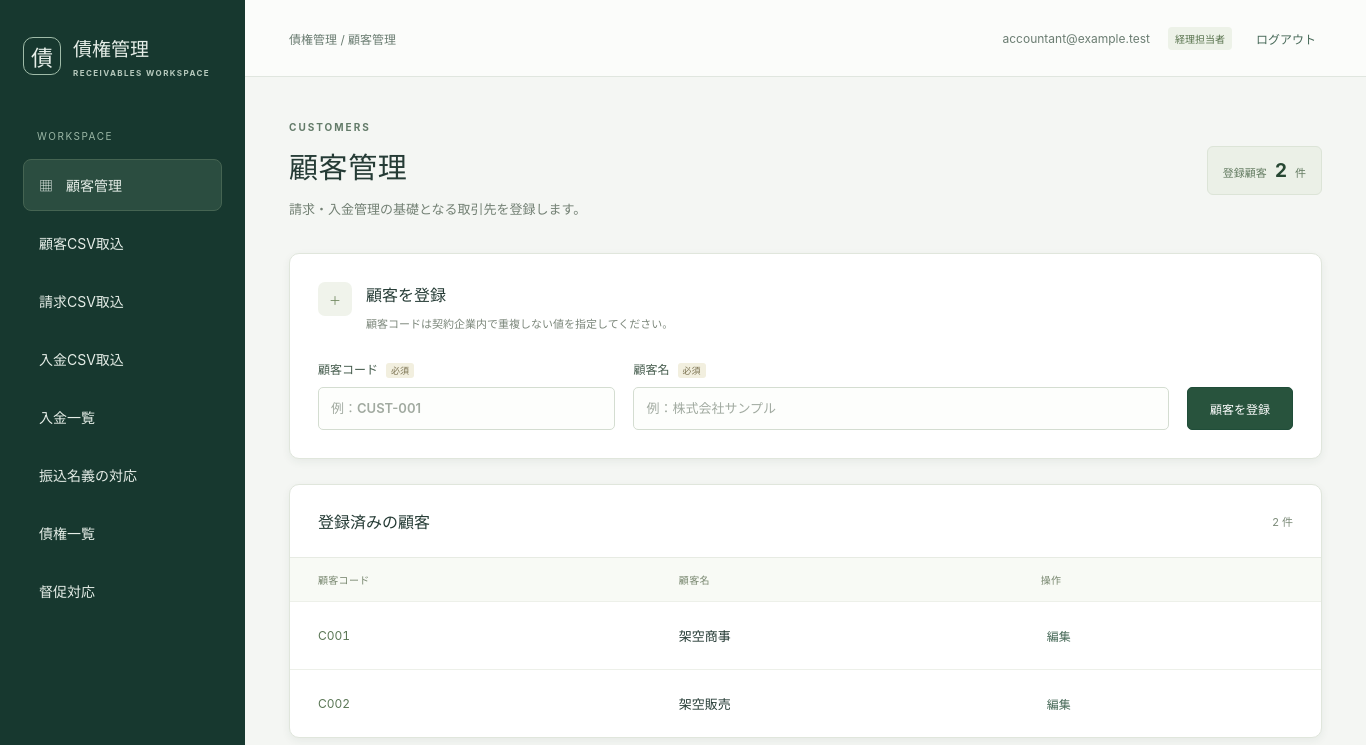
it: Manual payer aliases › sends payer text unchanged and shows the server response without case, width, kana or Unicode conversion
The image size is (1366, 745).
Click the button "振込名義の対応" at (122, 475), box [23, 449, 222, 501]
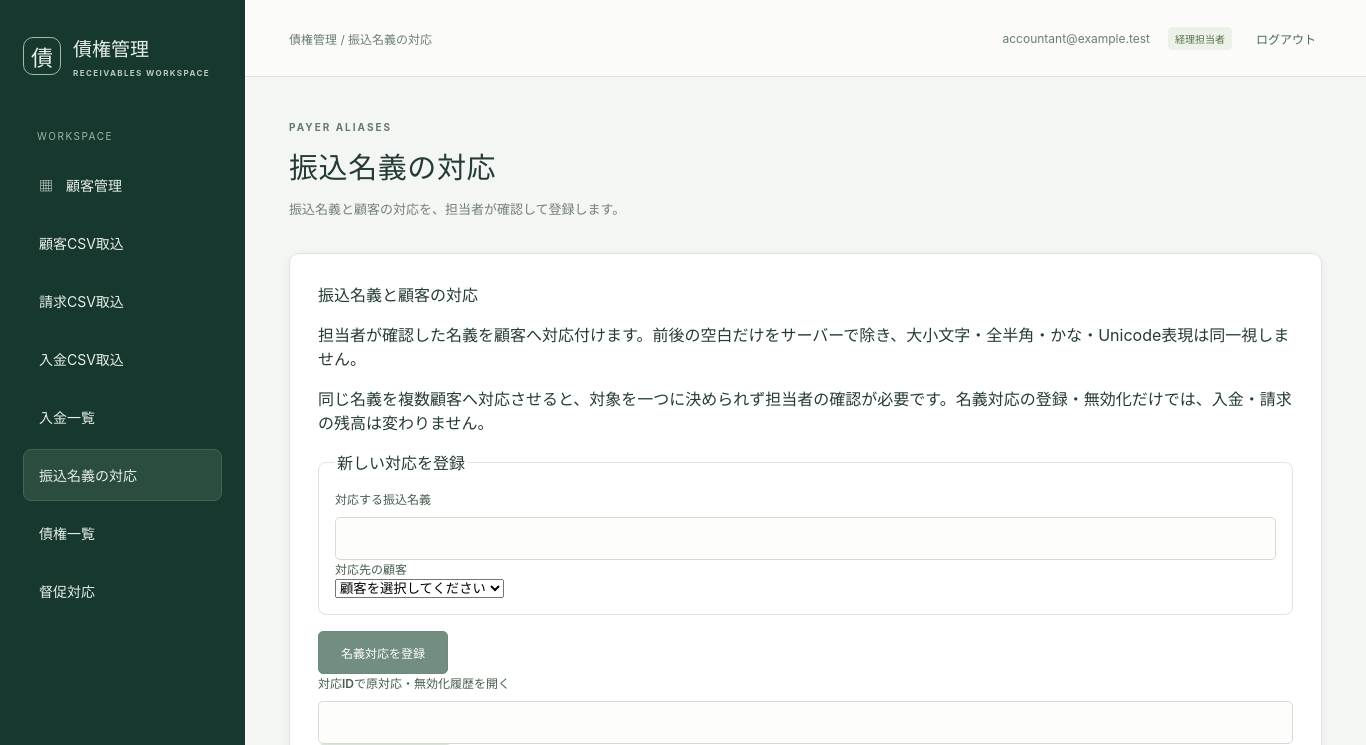
Type "  ｶｸｳ KAKUU kakuu é é  " into the field labelled "対応する振込名義" at (806, 539), box [335, 517, 1276, 560]
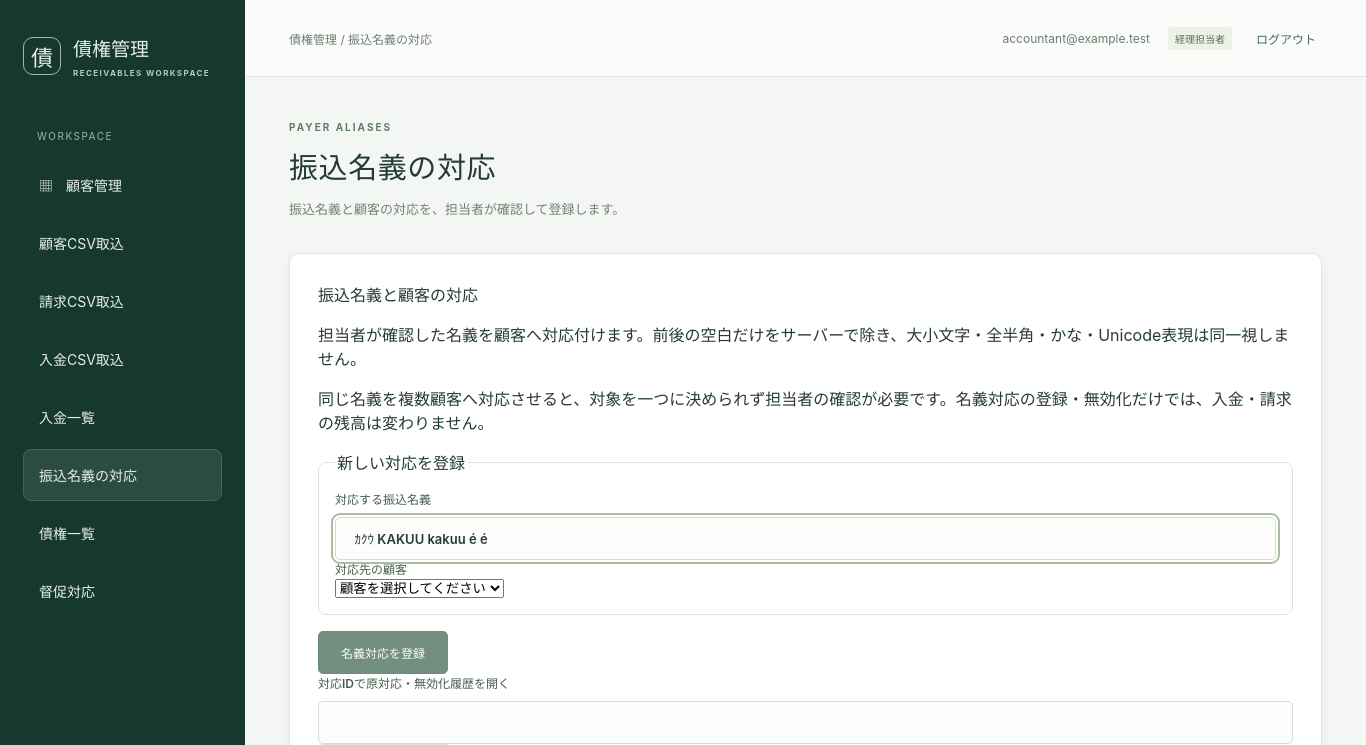
Select "C001 — 架空商事" in the dropdown labelled "対応先の顧客" at (420, 589), box [335, 579, 504, 598]
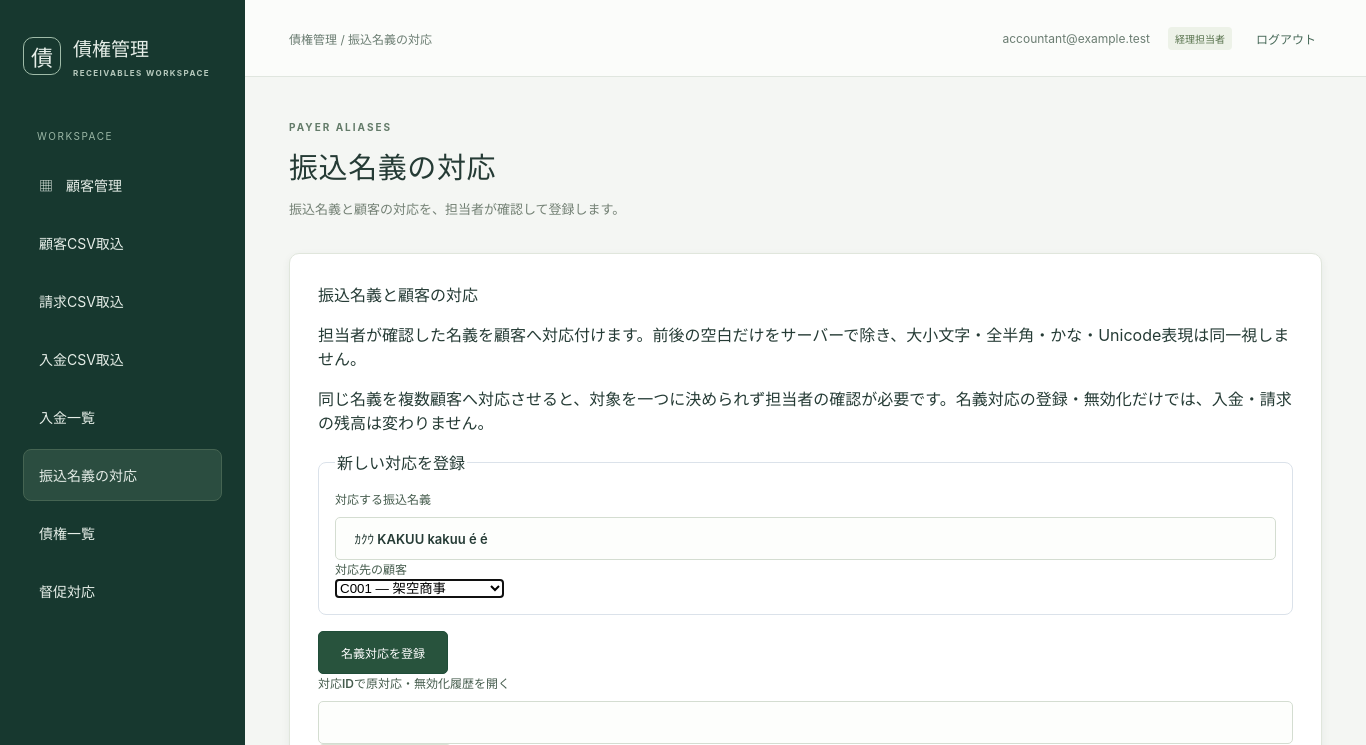
Click the button "名義対応を登録" at (383, 653), box [318, 631, 448, 674]
(page scrolled)
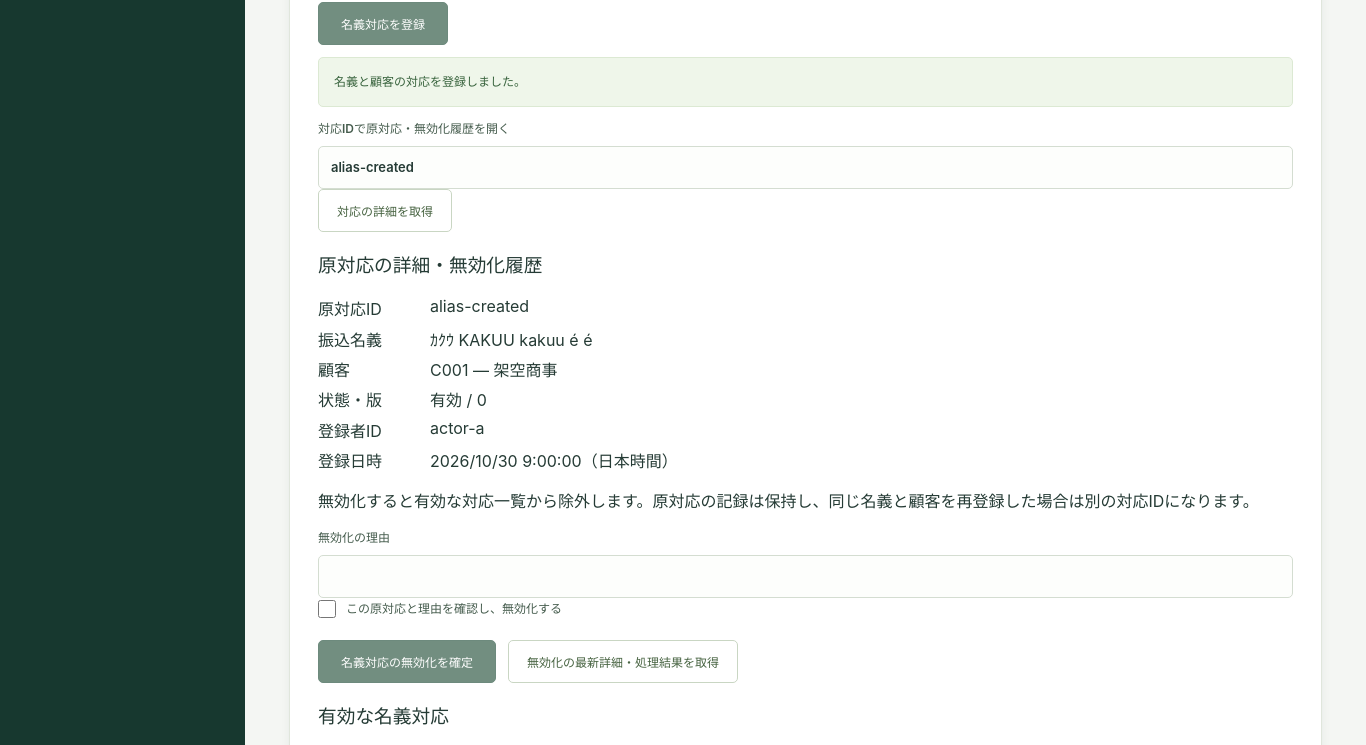
Expected: the message shows "対応を登録しました", [334, 74, 526, 89]
Expected: the element named "原対応の記録" shows "ｶｸｳ KAKUU kakuu é é", [430, 330, 592, 350]
